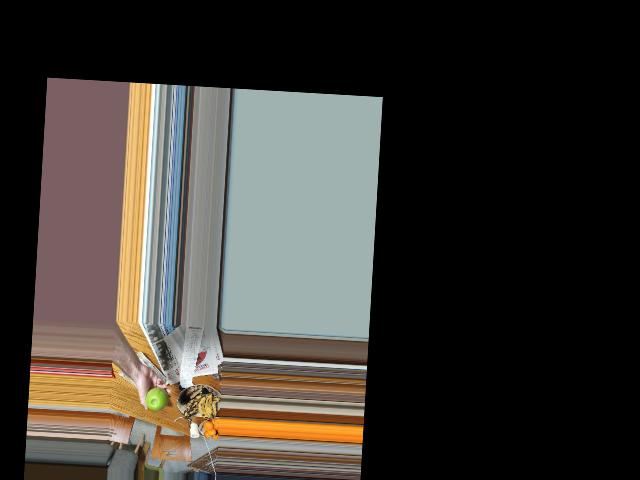apple: (142, 385, 169, 412)
